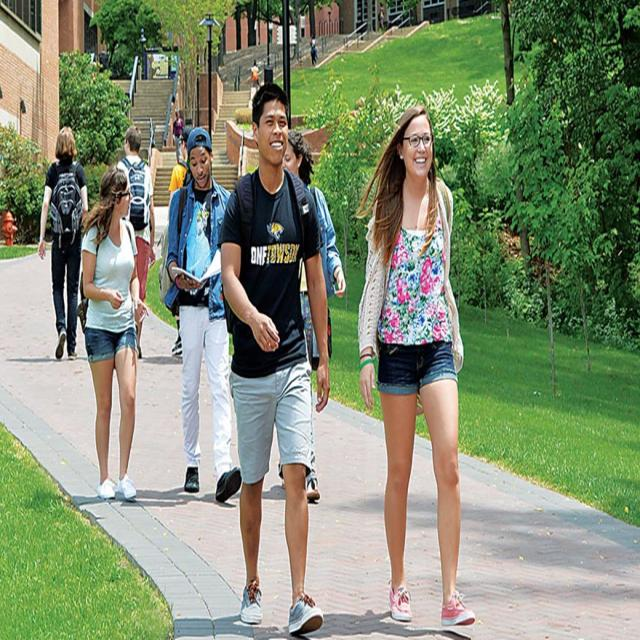body: (354, 99, 479, 630), (216, 80, 332, 637), (163, 125, 243, 503), (72, 164, 150, 501), (278, 127, 348, 502), (36, 124, 90, 361), (115, 123, 158, 362), (168, 125, 198, 356), (304, 27, 322, 70), (172, 110, 185, 164), (375, 0, 386, 37), (250, 59, 261, 90)
